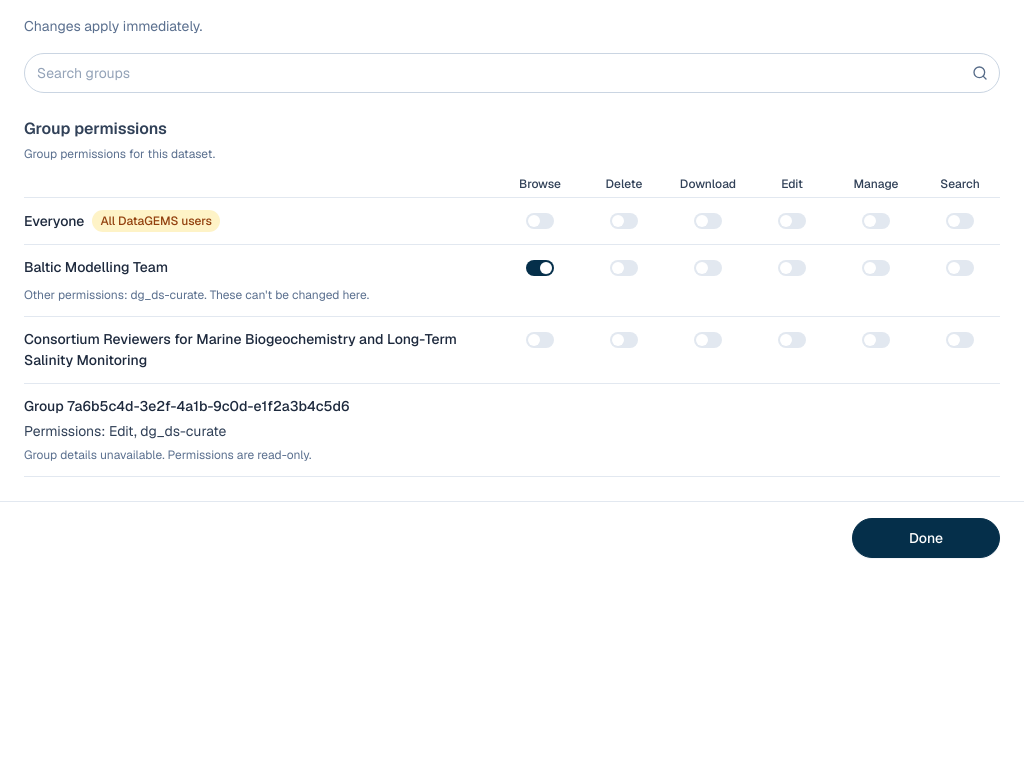
it: DatasetAccessView — holders and roles without a control › finds a holder by its id in search
This screenshot has width=1024, height=768.
Type "7a6b5c4d" into the field labelled "Search groups". click: (512, 73)
box: [24,53,1000,93]
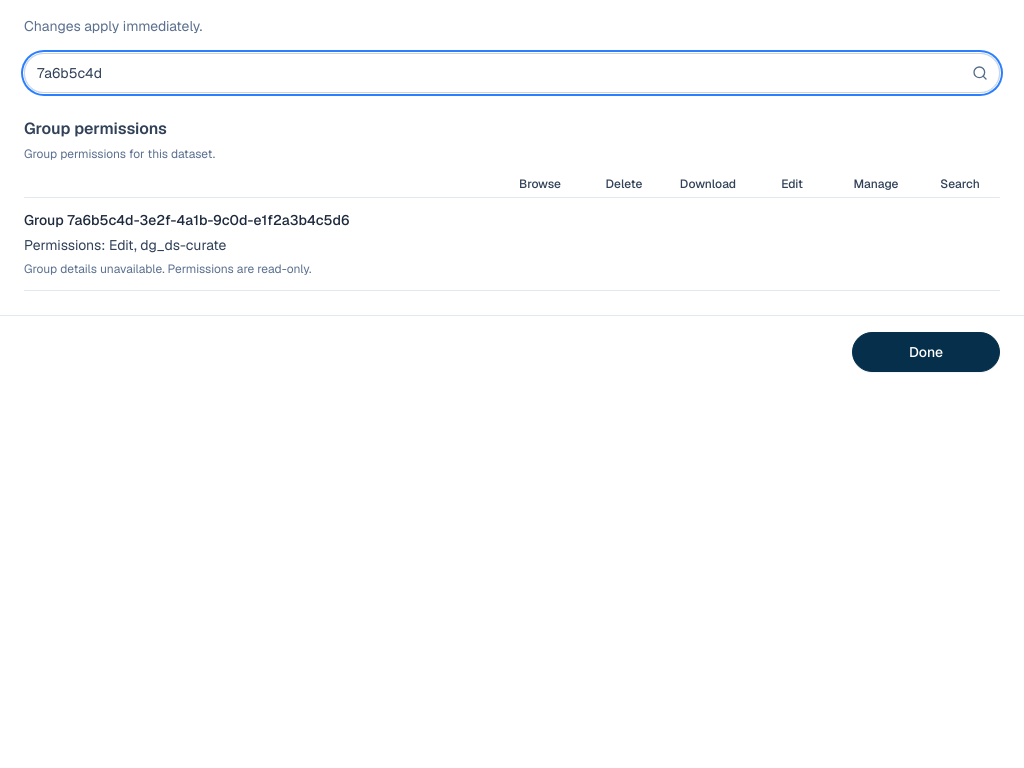
Check: the text "Baltic Modelling Team" is gone
